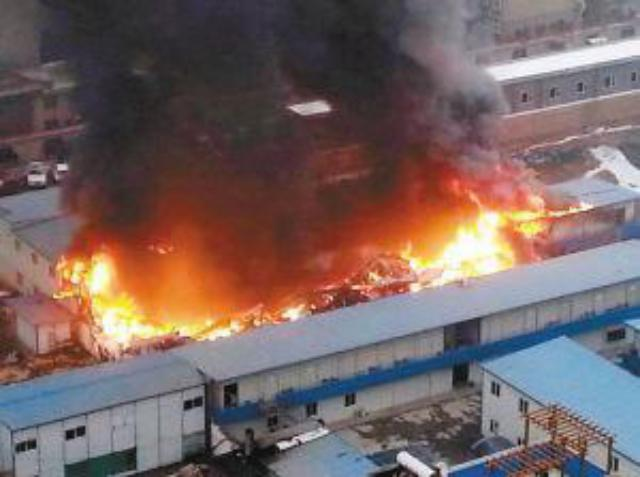fire: (147, 226, 217, 317), (422, 213, 512, 270), (51, 249, 115, 298), (94, 295, 148, 337), (170, 317, 236, 336), (507, 200, 545, 229)
